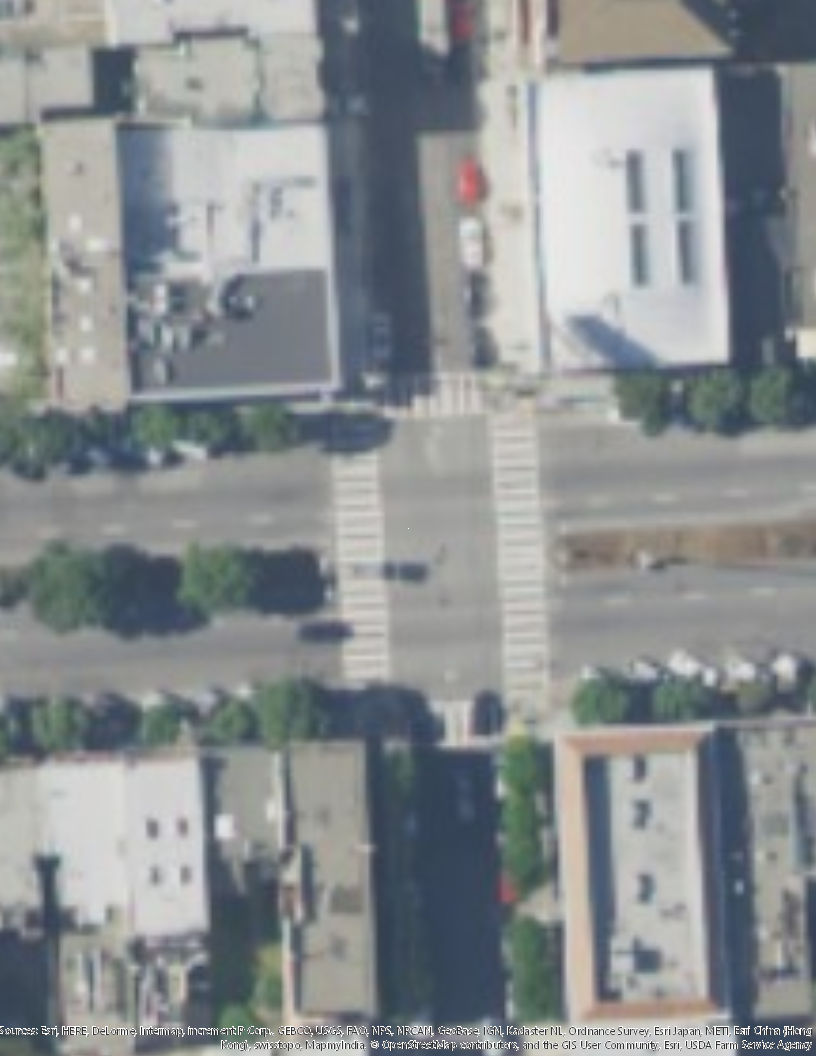zebracross: (485, 409, 552, 693), (324, 416, 391, 681), (368, 373, 495, 412)
